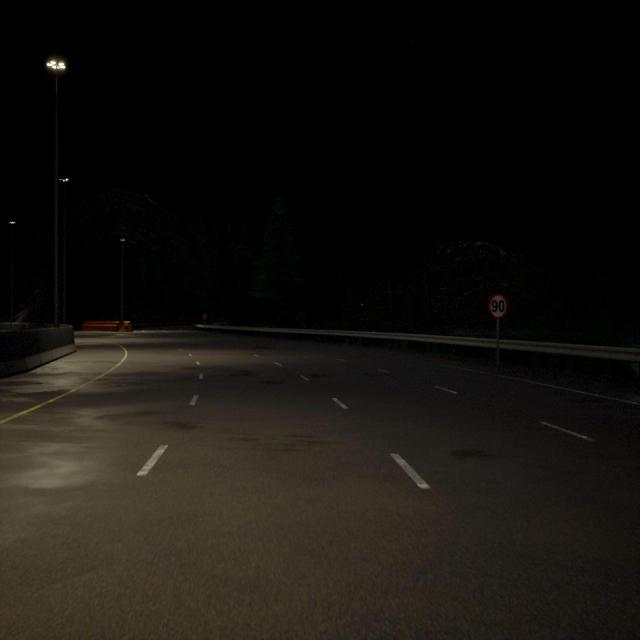Traffic_Signs: (488, 294, 507, 317), (203, 314, 206, 319)
